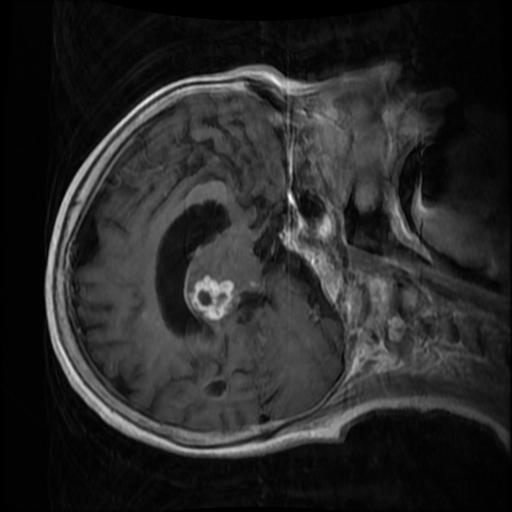glioma: (188, 274, 234, 320)
